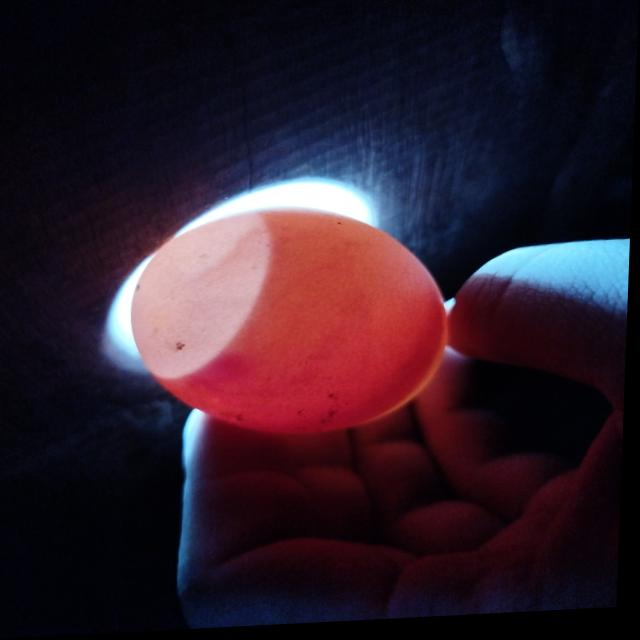Camara de Ar: (134, 212, 275, 381)
